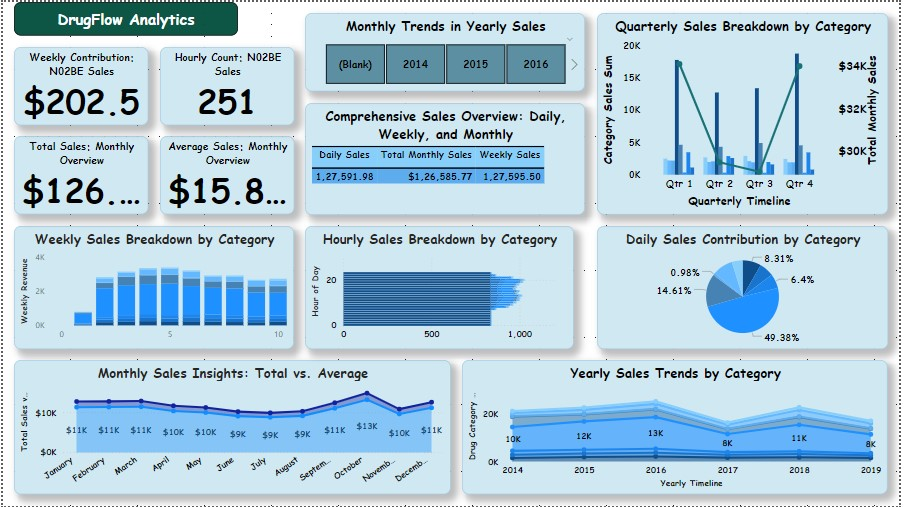

What the dashboard file says about the page in this screenshot:
{"tool":"powerbi","page":{"name":"PharmaPulse","canvas":[1280,720],"ordinal":0},"visuals":[{"type":"textbox","box":[16,0,320,48],"z":0},{"type":"columnChart","title":"Weekly Sales Breakdown by Category","fields":{"Category":["Sales Weekly.Week Num"],"Y":["Sum(Sales Weekly.M01AB)","Sum(Sales Weekly.M01AE)","Sum(Sales Weekly.N02BA)","Sum(Sales Weekly.N02BE)","Sum(Sales Weekly.N05B)","Sum(Sales Weekly.N05C)","Sum(Sales Weekly.R03)","Sum(Sales Weekly.R06)"]},"box":[16,320,400,176],"z":1000},{"type":"stackedAreaChart","title":"Monthly Sales Insights: Total vs. Average","fields":{"Category":["Sales Monthly.Date.Variation.Date Hierarchy.Month"],"Y":["Sales Monthly.Total Monthly Sales","Sales Monthly.Average Monthly Sales"]},"box":[16,512,624,192],"z":2000},{"type":"barChart","title":"Hourly Sales Breakdown by Category","fields":{"Category":["Sales Hourly.Hour"],"Y":["CountNonNull(Sales Hourly.M01AB)","Count(Sales Hourly.M01AE)","Count(Sales Hourly.N02BA)","Count(Sales Hourly.N02BE)","Count(Sales Hourly.N05B)","Count(Sales Hourly.N05C)","Count(Sales Hourly.R03)","Count(Sales Hourly.R06)"]},"box":[432,320,384,176],"z":3000},{"type":"pieChart","title":"Daily Sales Contribution by Category","fields":{"Y":["Sum(Sales Daily.M01AB)","Sum(Sales Daily.M01AE)","Sum(Sales Daily.N02BA)","Sum(Sales Daily.N02BE)","Sum(Sales Daily.N05B)","Sum(Sales Daily.N05C)","Sum(Sales Daily.R03)","Sum(Sales Daily.R06)"]},"box":[848,320,416,176],"z":4000},{"type":"stackedAreaChart","title":"Yearly Sales Trends by Category","fields":{"Category":["Sales Monthly.Date.Variation.Date Hierarchy.Year"],"Y":["Sum(Sales Monthly.M01AB)","Sum(Sales Monthly.M01AE)","Sum(Sales Monthly.N02BA)","Sum(Sales Monthly.N02BE)","Sum(Sales Monthly.N05B)","Sum(Sales Monthly.N05C)","Sum(Sales Monthly.R03)","Sum(Sales Monthly.R06)"]},"box":[656,512,608,192],"z":5000},{"type":"lineClusteredColumnComboChart","title":"Quarterly Sales Breakdown by Category","fields":{"Category":["Sales Monthly.Date.Variation.Date Hierarchy.Quarter"],"Y":["Sum(Sales Monthly.M01AB)","Sum(Sales Monthly.M01AE)","Sum(Sales Monthly.N02BA)","Sum(Sales Monthly.N02BE)","Sum(Sales Monthly.N05B)","Sum(Sales Monthly.N05C)","Sum(Sales Monthly.R03)","Sum(Sales Monthly.R06)"],"Y2":["Sales Monthly.Total Monthly Sales"]},"box":[848,16,416,288],"z":6000},{"type":"card","title":"Total Sales: Monthly Overview","fields":{"Values":["Sales Monthly.Total Monthly Sales"]},"box":[16,192,192,112],"z":7000},{"type":"card","title":"Average Sales: Monthly Overview","fields":{"Values":["Sales Monthly.Average Monthly Sales"]},"box":[224,192,192,112],"z":8000},{"type":"card","title":"Weekly Contribution: N02BE Sales","fields":{"Values":["Sales Weekly.weekly sales contribution by N02BE"]},"box":[16,64,192,112],"z":9000},{"type":"card","title":"Hourly Count: N02BE Sales","fields":{"Values":["Count(Sales Hourly.N02BE)"]},"box":[224,64,192,112],"z":10000},{"type":"tableEx","title":"Comprehensive Sales Overview: Daily, Weekly, and Monthly","fields":{"Values":["Sales Daily.Daily Sales","Sales Monthly.Total Monthly Sales","Sales Weekly.Weekly Sales"]},"box":[432,144,400,160],"z":11000},{"type":"slicer","title":"Monthly Trends in Yearly Sales","fields":{"Values":["Sales Monthly.Date.Variation.Date Hierarchy.Year"]},"box":[432,16,400,112],"z":12000}]}

Visuals, with their boxes in screenshot pixels (x1, y1, x2, y2), scaled from the page's 1280x720 canvas onto the 904x507 screenshot:
textbox: x1=11 y1=0 x2=237 y2=34
"Weekly Sales Breakdown by Category" columnChart: x1=11 y1=225 x2=294 y2=349
"Monthly Sales Insights: Total vs. Average" stackedAreaChart: x1=11 y1=361 x2=452 y2=496
"Hourly Sales Breakdown by Category" barChart: x1=305 y1=225 x2=576 y2=349
"Daily Sales Contribution by Category" pieChart: x1=599 y1=225 x2=893 y2=349
"Yearly Sales Trends by Category" stackedAreaChart: x1=463 y1=361 x2=893 y2=496
"Quarterly Sales Breakdown by Category" lineClusteredColumnComboChart: x1=599 y1=11 x2=893 y2=214
"Total Sales: Monthly Overview" card: x1=11 y1=135 x2=147 y2=214
"Average Sales: Monthly Overview" card: x1=158 y1=135 x2=294 y2=214
"Weekly Contribution: N02BE Sales" card: x1=11 y1=45 x2=147 y2=124
"Hourly Count: N02BE Sales" card: x1=158 y1=45 x2=294 y2=124
"Comprehensive Sales Overview: Daily, Weekly, and Monthly" tableEx: x1=305 y1=101 x2=588 y2=214
"Monthly Trends in Yearly Sales" slicer: x1=305 y1=11 x2=588 y2=90
